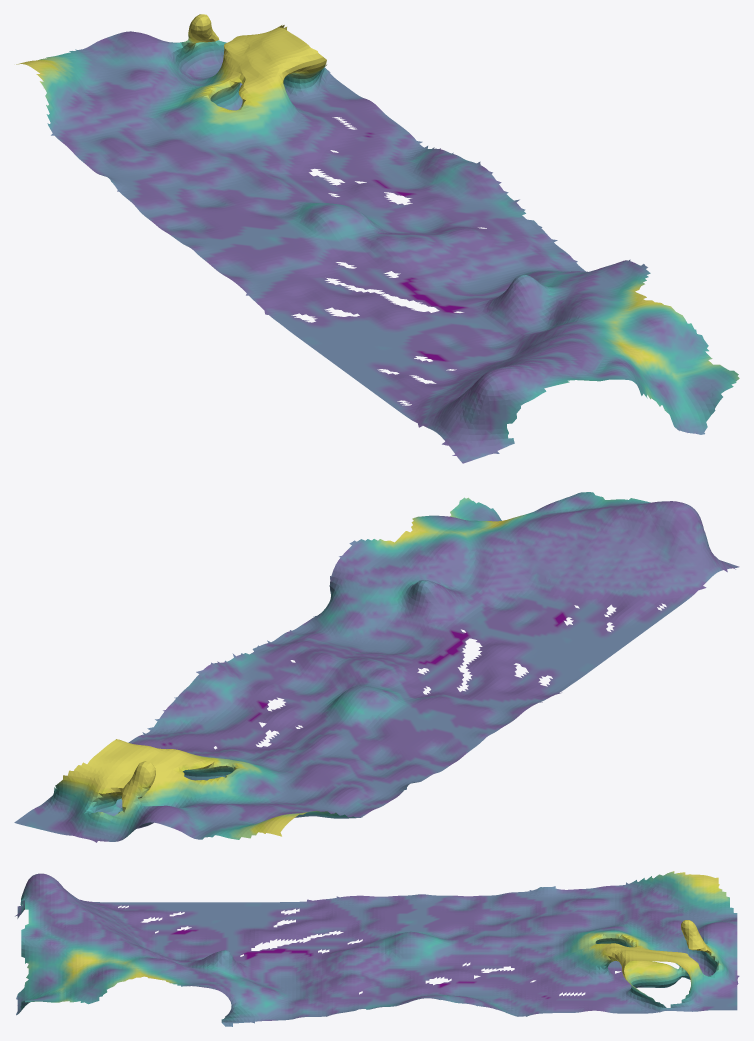
Rendered from crop1122_gap.glb.
3 views of the same model, one above another, from view 1: azimuth 30°, elevation 25°; view 2: azimuth 150°, elevation 25°; view 3: azimuth 270°, elevation 25° (orthographic). The views are drawn at different scales.
Parts seen in each view (by area): view 1: world; view 2: world; view 3: world.
Part boxes in pixels (left/top/right/bottom): world: left=16, top=14, right=739, bottom=463; world: left=14, top=492, right=739, bottom=842; world: left=15, top=871, right=739, bottom=1026.
Size of the model in its own units: 1136 by 361 by 3131.
